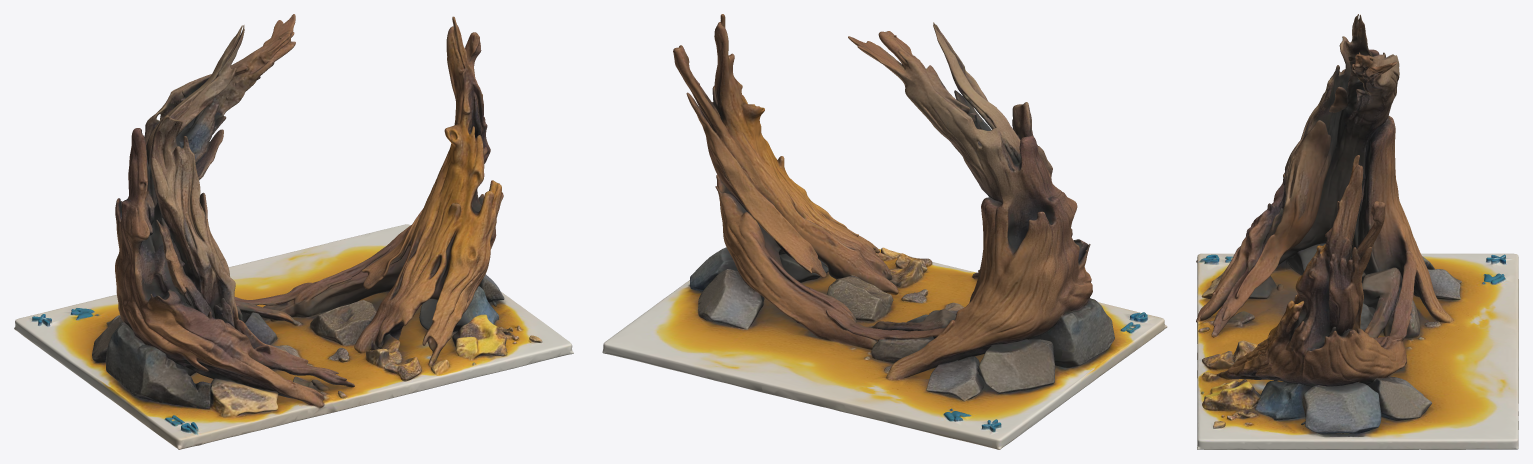
The model's file is vom1-v3.glb.
3 views of the same model, side by side, from view 1: azimuth 30°, elevation 25°; view 2: azimuth 150°, elevation 25°; view 3: azimuth 270°, elevation 25° (orthographic). The views are drawn at different scales.
Visible parts, largest first — view 1: tripo_node_37f896b1-0450-4095-b476-19d830e5fead; view 2: tripo_node_37f896b1-0450-4095-b476-19d830e5fead; view 3: tripo_node_37f896b1-0450-4095-b476-19d830e5fead.
Boxes of the visible parts, box(x1,y1,x2,y2) form: tripo_node_37f896b1-0450-4095-b476-19d830e5fead: box(14, 14, 573, 449); tripo_node_37f896b1-0450-4095-b476-19d830e5fead: box(602, 14, 1167, 449); tripo_node_37f896b1-0450-4095-b476-19d830e5fead: box(1196, 14, 1518, 449).
Bounding box in the file's own units: 1 × 0.7956 × 0.7268.
Materials: 1 (1 with a texture image).
